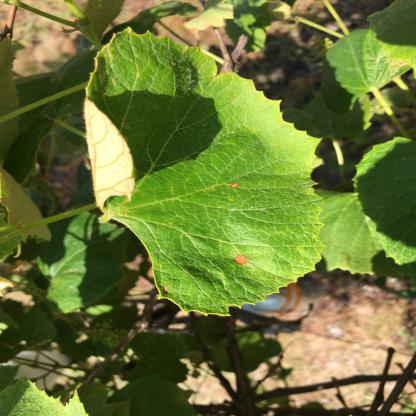grape leaf black rot: (69, 23, 329, 317)
